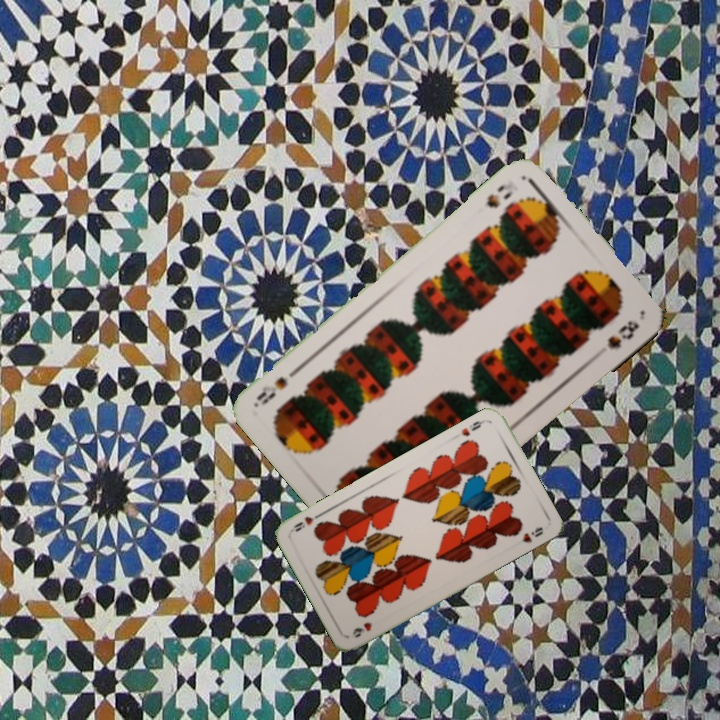H9: (457, 415, 488, 439), (348, 618, 375, 640)
S8: (482, 180, 516, 211)
